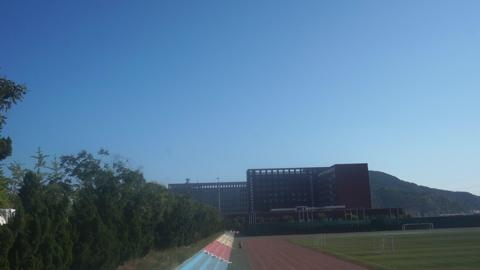UAV: (216, 177, 220, 180)
